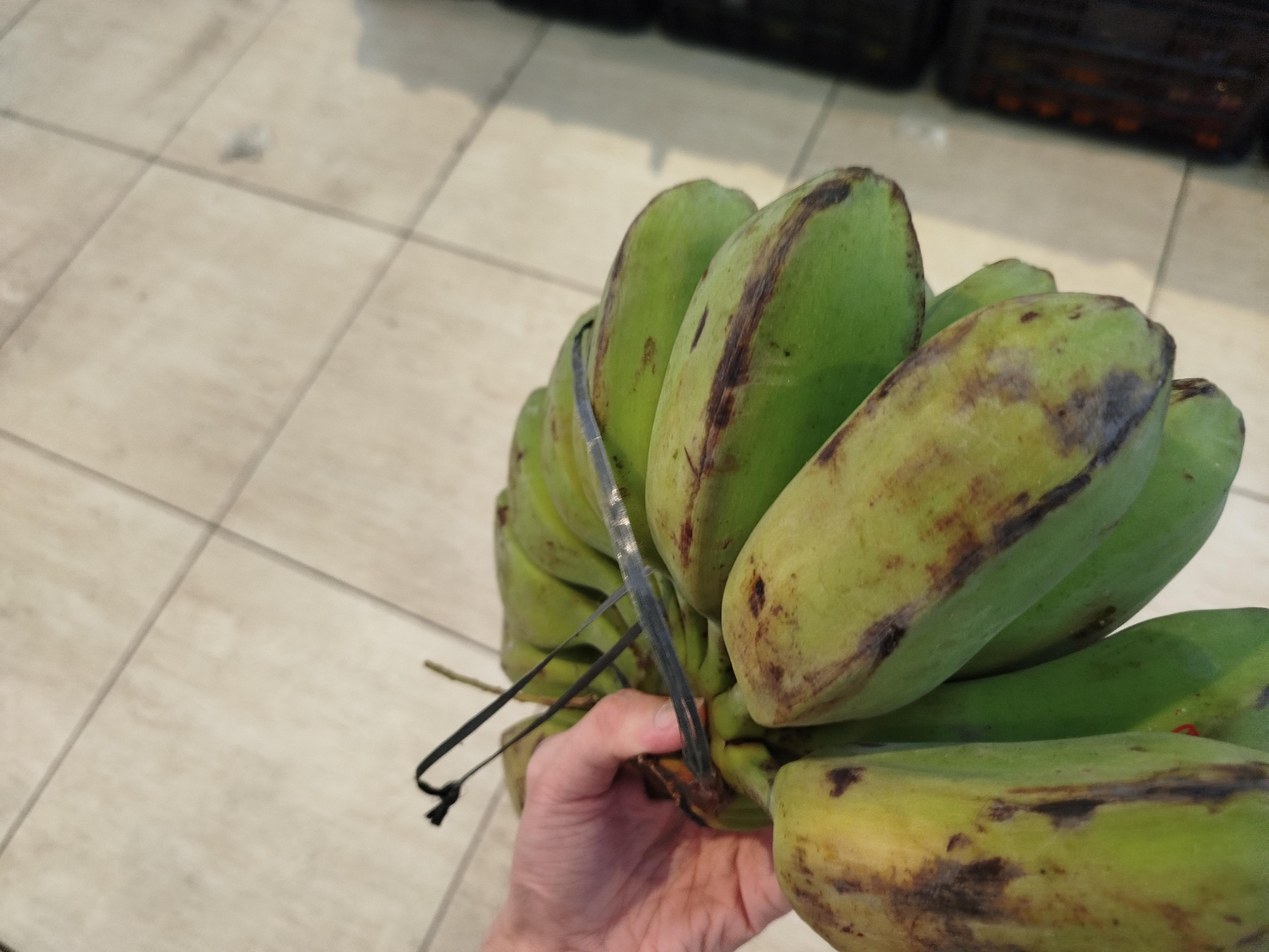underripe: (496, 169, 1269, 952)
